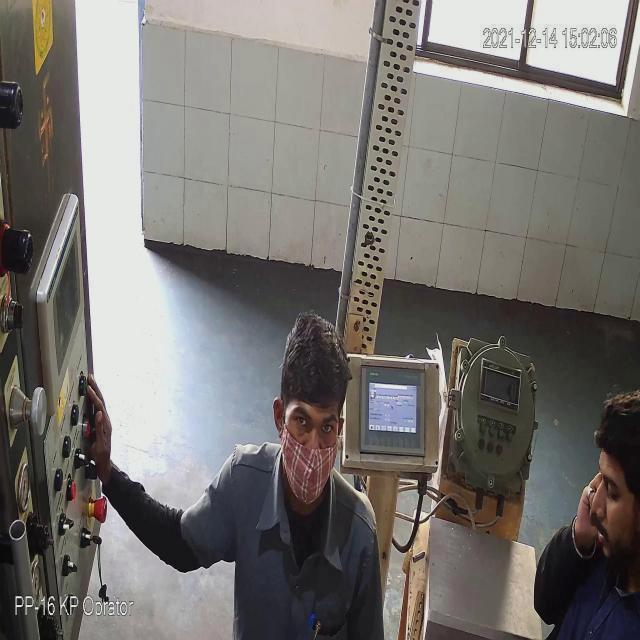face_mask: (281, 403, 341, 500)
face_nomask: (583, 448, 630, 560)
hand_noglove: (77, 370, 123, 483)
head_nohelmet: (273, 306, 351, 400)
person: (173, 300, 391, 640), (530, 359, 640, 640)
